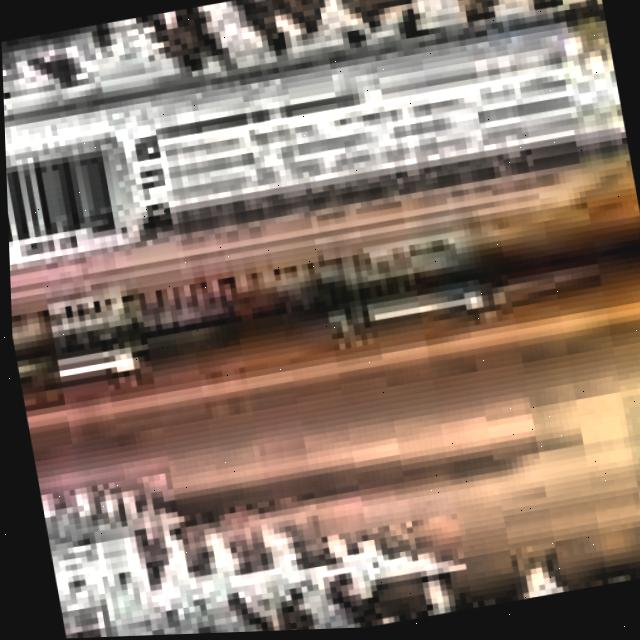metal: (10, 253, 640, 640), (0, 0, 640, 361)
